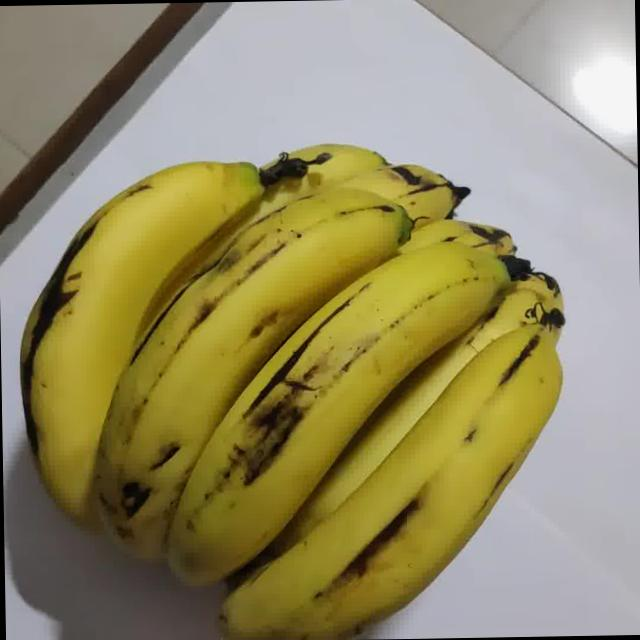banana_pacche: (0, 28, 570, 640)
